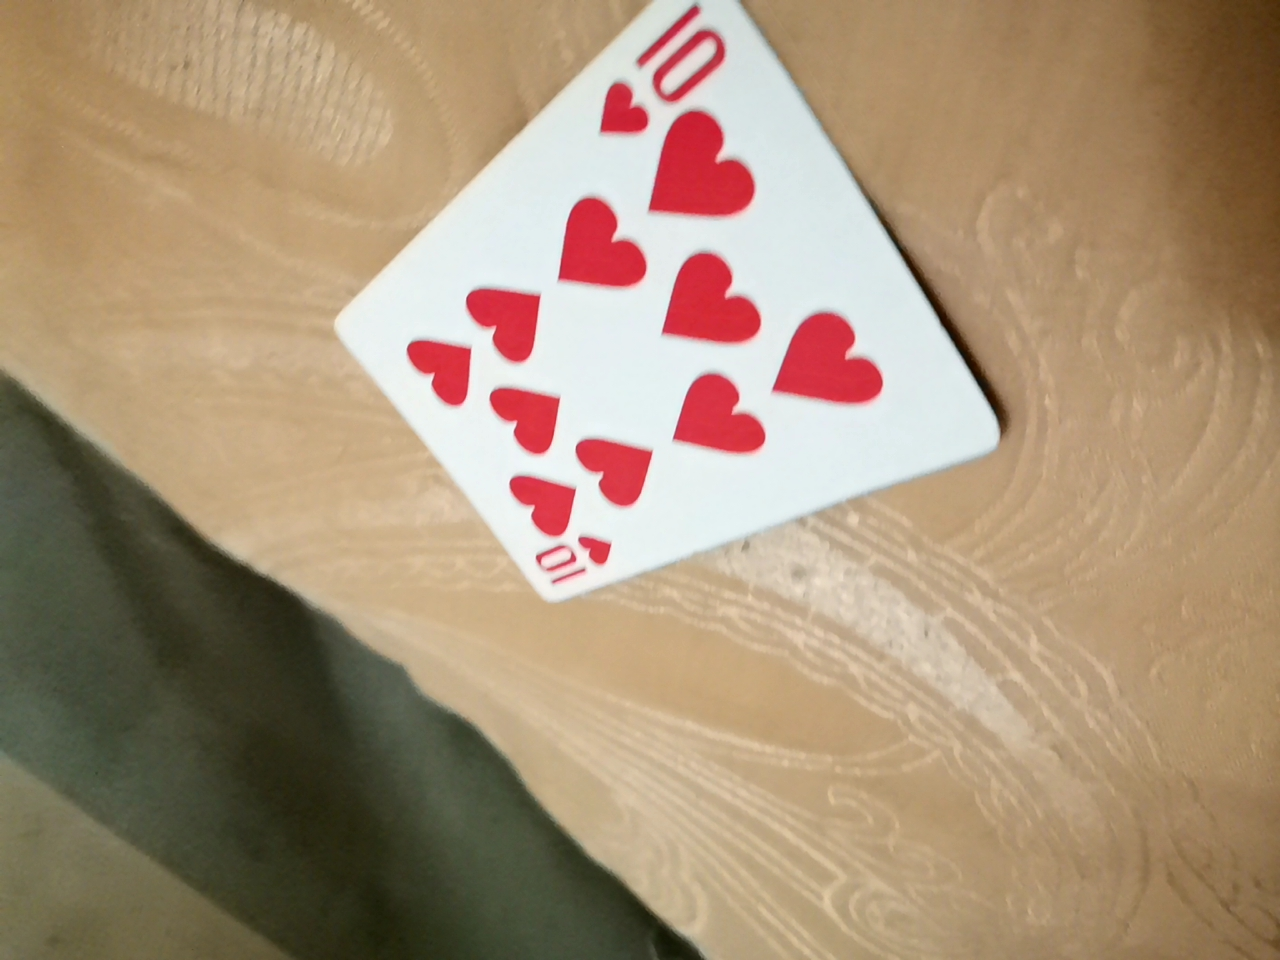hx 10: (343, 3, 1004, 559)
